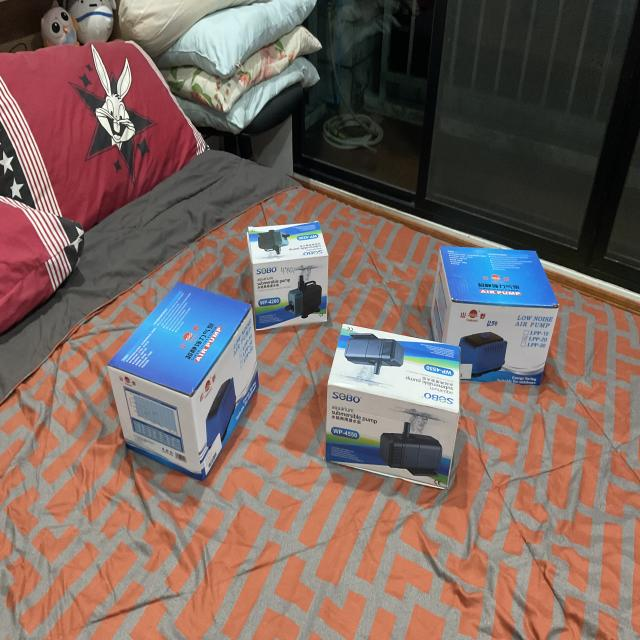SOBO_WP_4200: (316, 312, 467, 502), (240, 199, 340, 339)
YAMANO_LPP_20: (106, 266, 271, 494), (419, 223, 568, 390)
